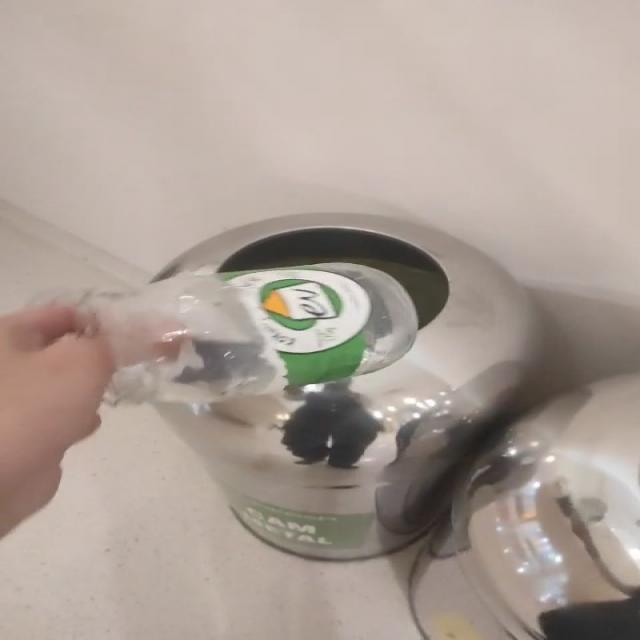Glass: (76, 263, 417, 410)
